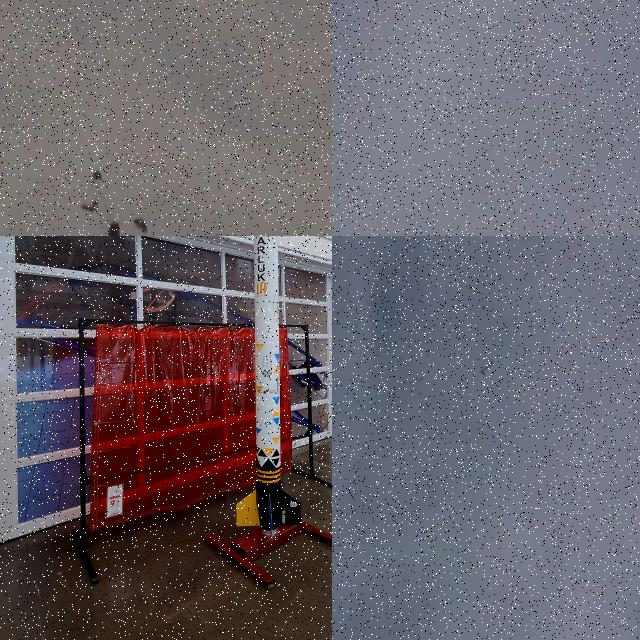Rocket: (236, 236, 301, 544), (479, 358, 494, 374)
